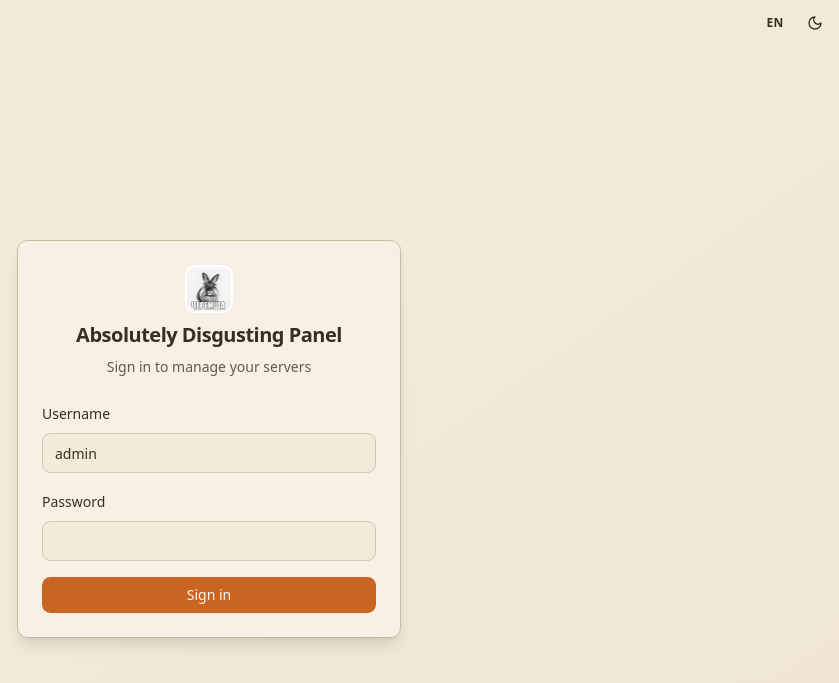
Test case: LoginPage › shows an error on wrong password
The width and height of the screenshot is (839, 683).
Type "wrong" into the password field labelled "Password" at coordinates (209, 541), box [42, 521, 376, 561]
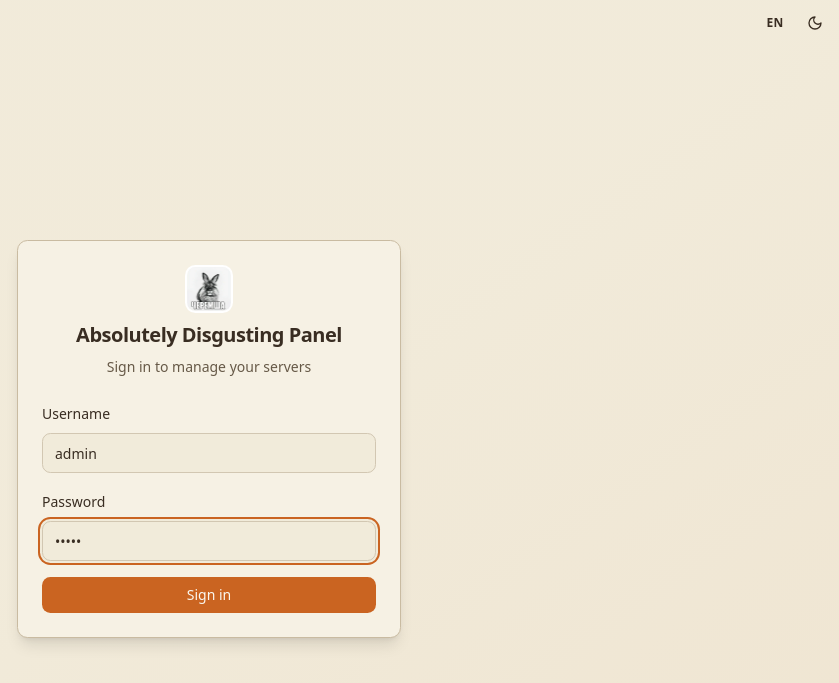
Click the button "Sign in" at coordinates (209, 595), box [42, 577, 376, 613]
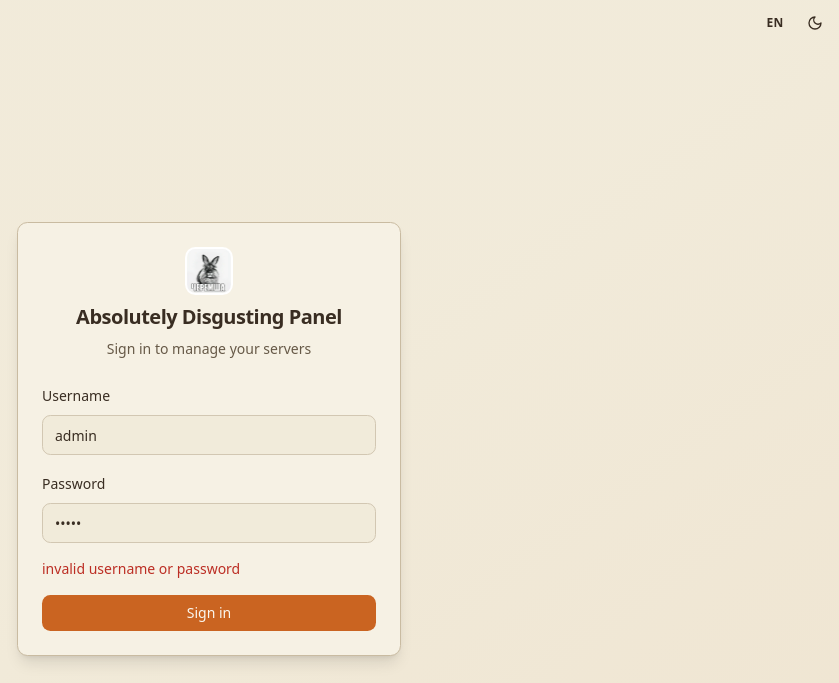
Expected: the text "invalid username or password" is shown, [42, 559, 240, 578]
